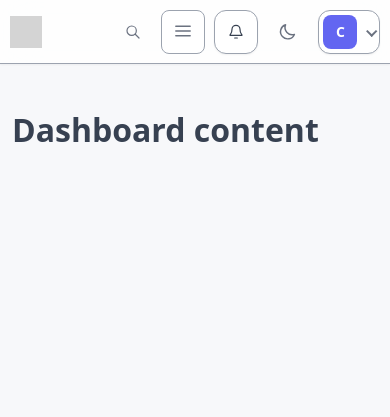
AppLayout navigation › exposes a mobile menu toggle without changing the route links
The image size is (390, 417).
Click the button named "Open navigation menu": (183, 32) 161,10 -> 205,54
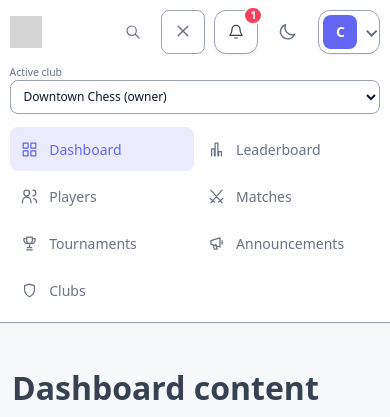
Expected: the button named "Close navigation menu" is shown, 161,10 -> 205,54
Expected: the link "Matches" is shown, 208,187 -> 292,206
